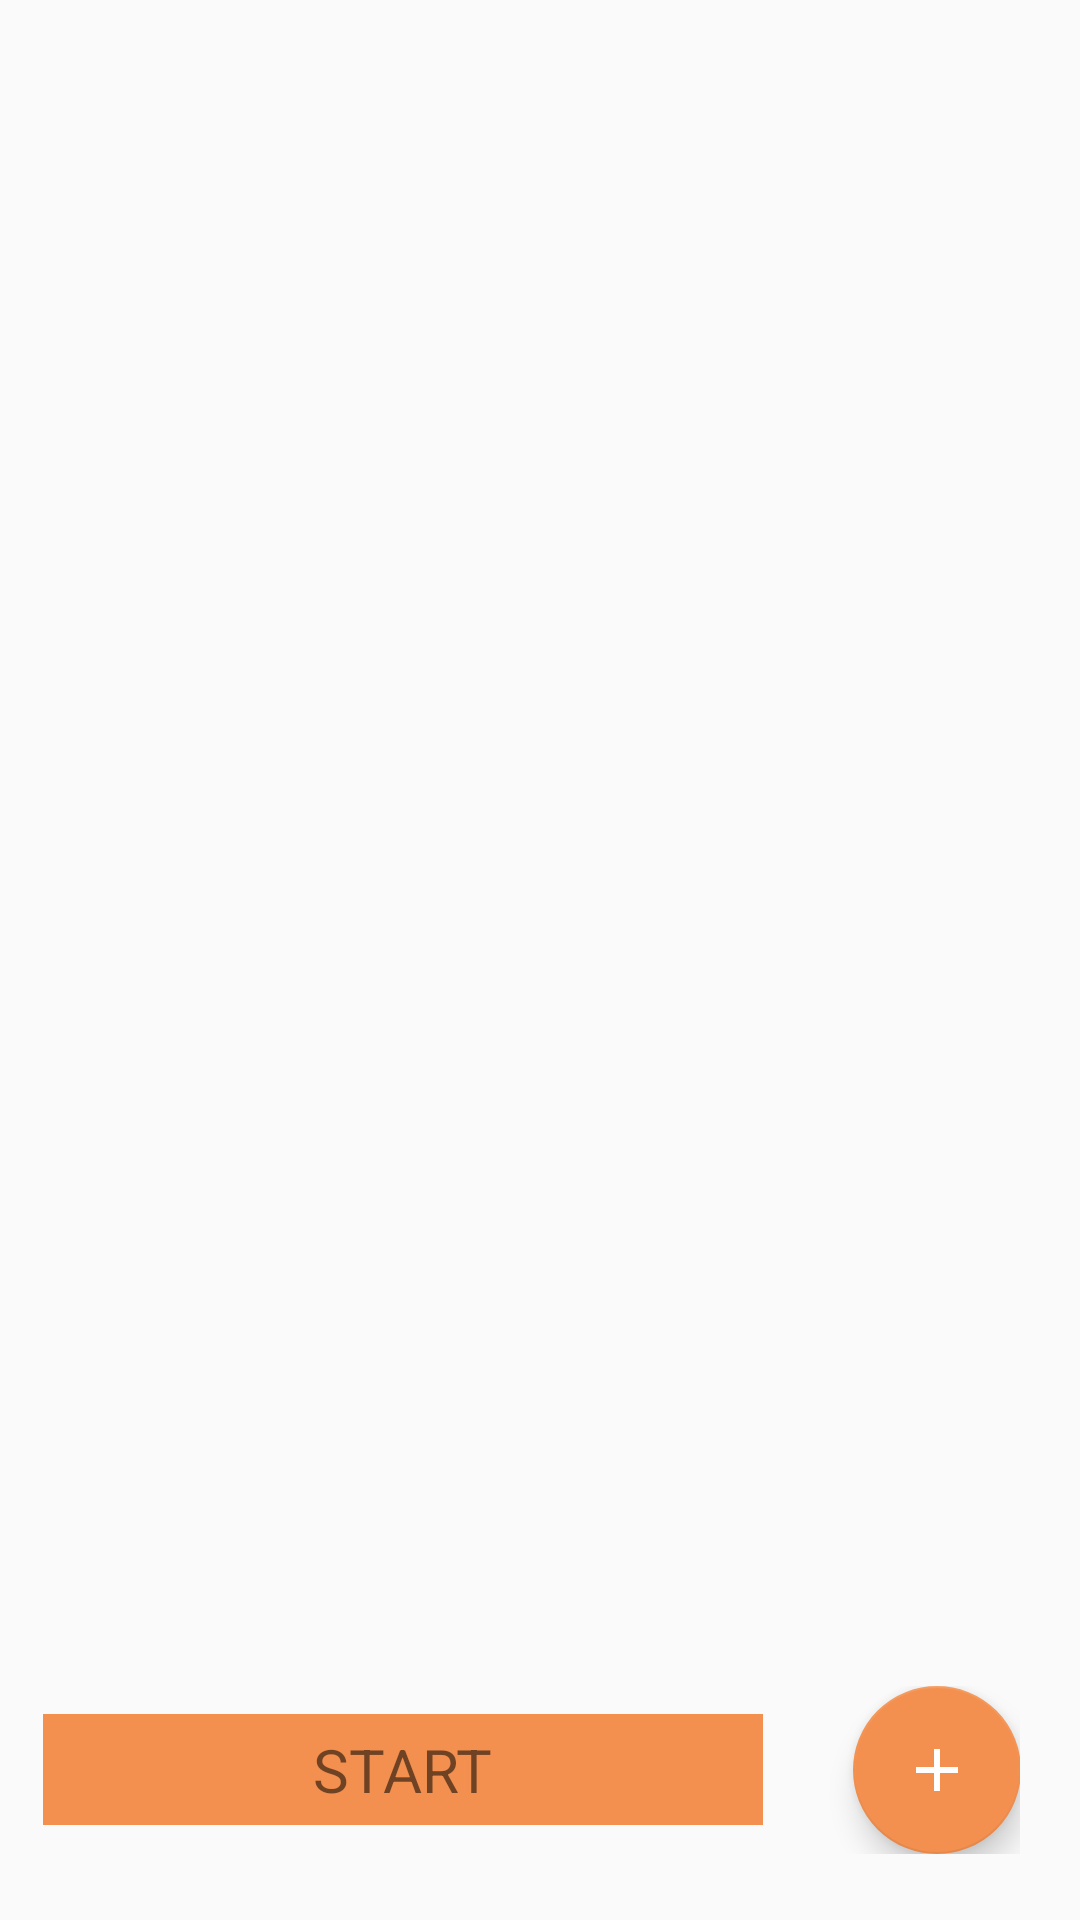

Where to tap for icons on this 1080×1920 app screen, as [x,y]:
add: [936,1770]
